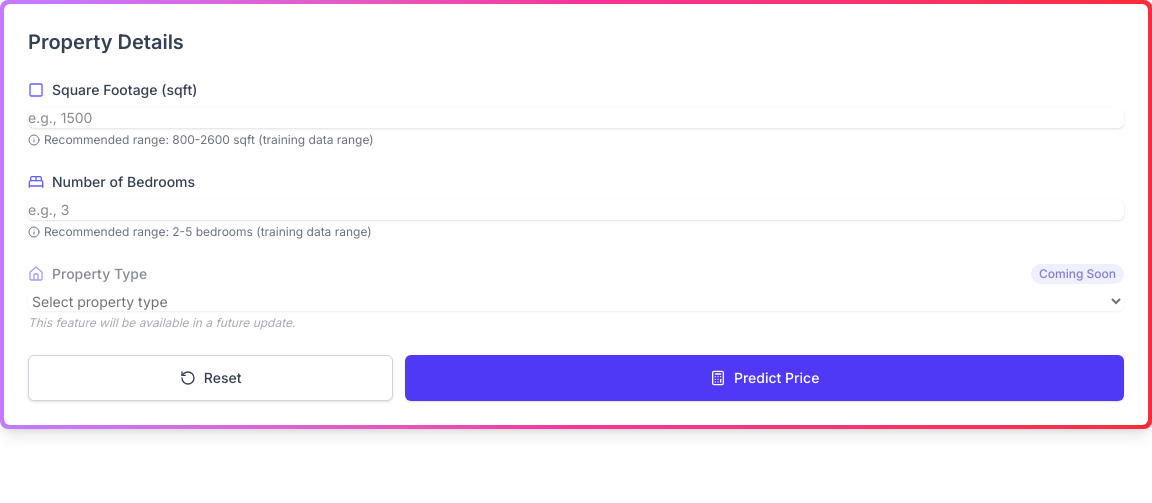
Test: PredictionForm › validates required fields
# Click submit without filling in any fields
Click the button "Predict Price" at [765, 378], box x1=405 y1=355 x2=1124 y2=401
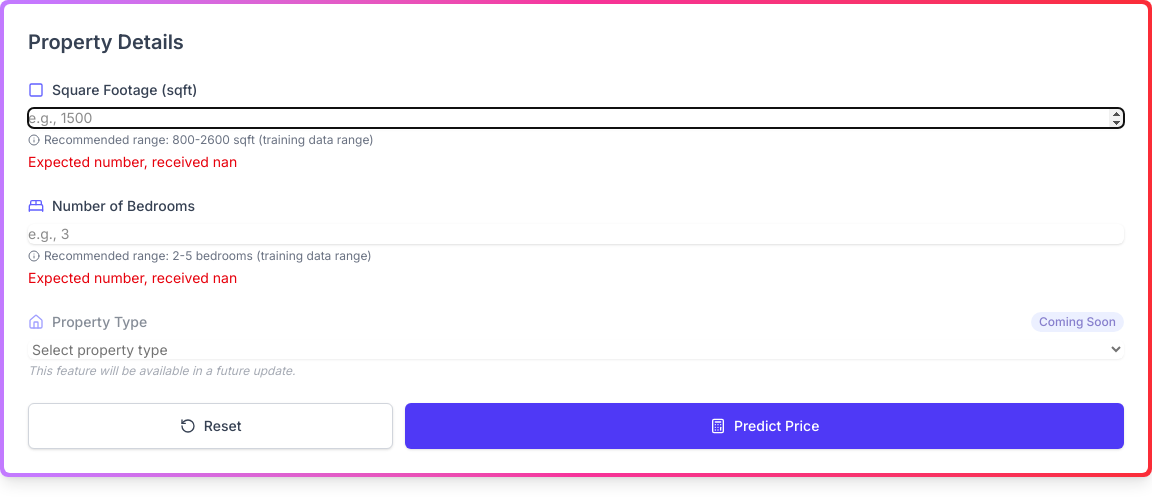
Check: the text "Expected number, received nan" below "Square Footage (sqft)" is shown, box x1=28 y1=153 x2=237 y2=170
